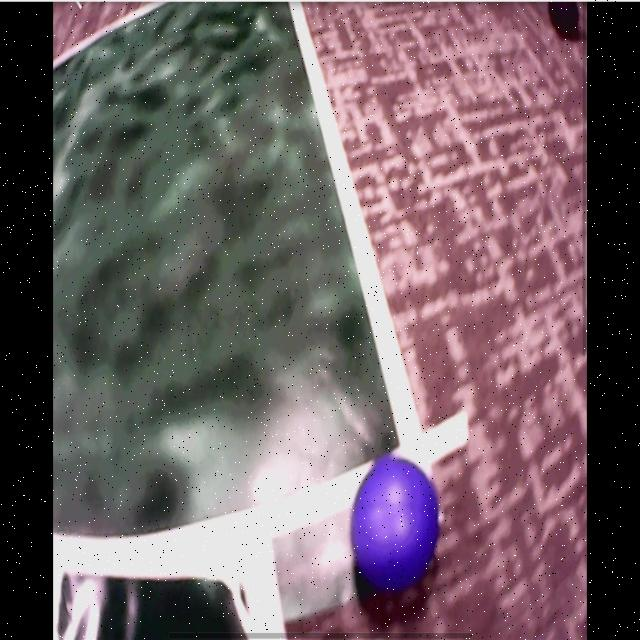ball: (351, 456, 440, 590)
